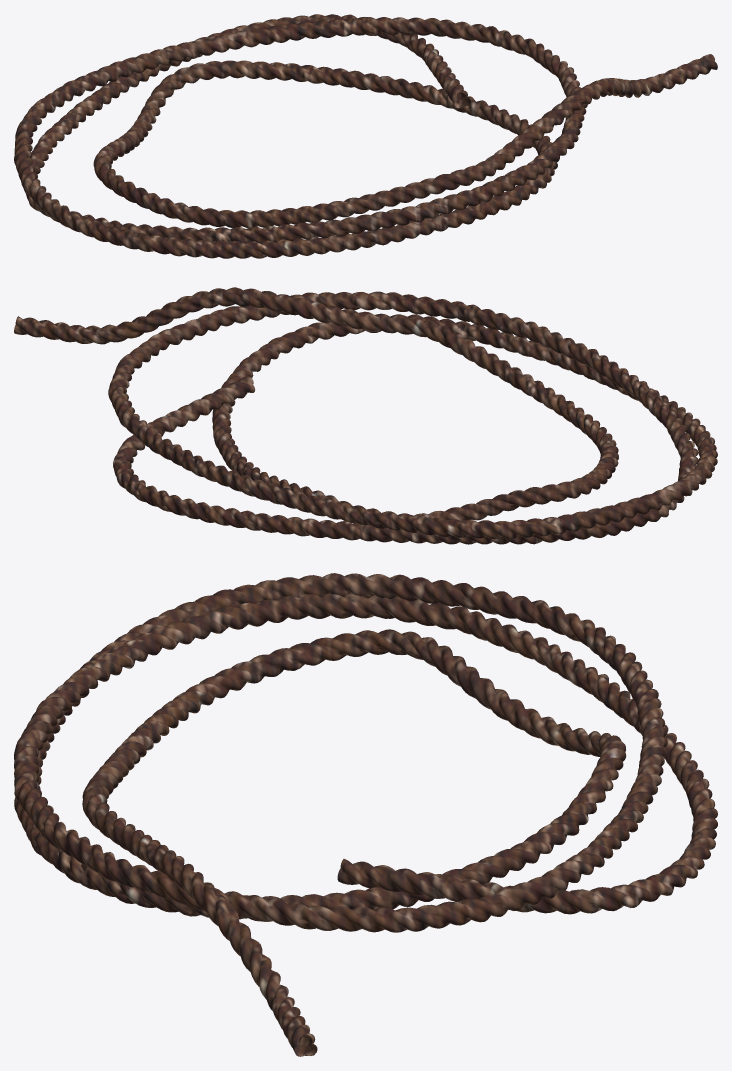
The model's file is PIG_rope_coil.glb.
3 renders of one model, top to bottom at view 1: azimuth 30°, elevation 25°; view 2: azimuth 150°, elevation 25°; view 3: azimuth 270°, elevation 25°, orthographic. The views are drawn at different scales.
Visible parts, largest first — view 1: Circle.002; view 2: Circle.002; view 3: Circle.002.
Boxes of the visible parts, x1,y1,x2,y2 form: Circle.002: (14, 14, 717, 258); Circle.002: (14, 287, 717, 544); Circle.002: (14, 573, 717, 1056).
Size of the model in its own units: 294 by 26.63 by 193.
1 material, 1 textured.
